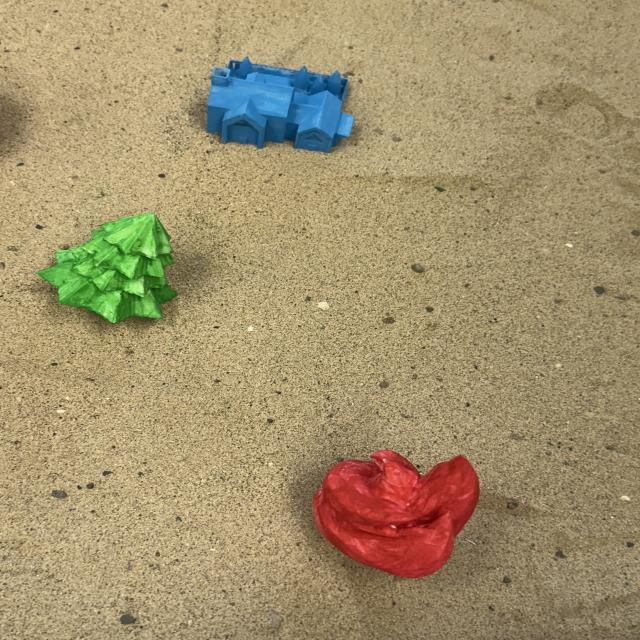fire: (310, 448, 481, 579)
house: (204, 56, 355, 153)
tree: (36, 211, 178, 324)
